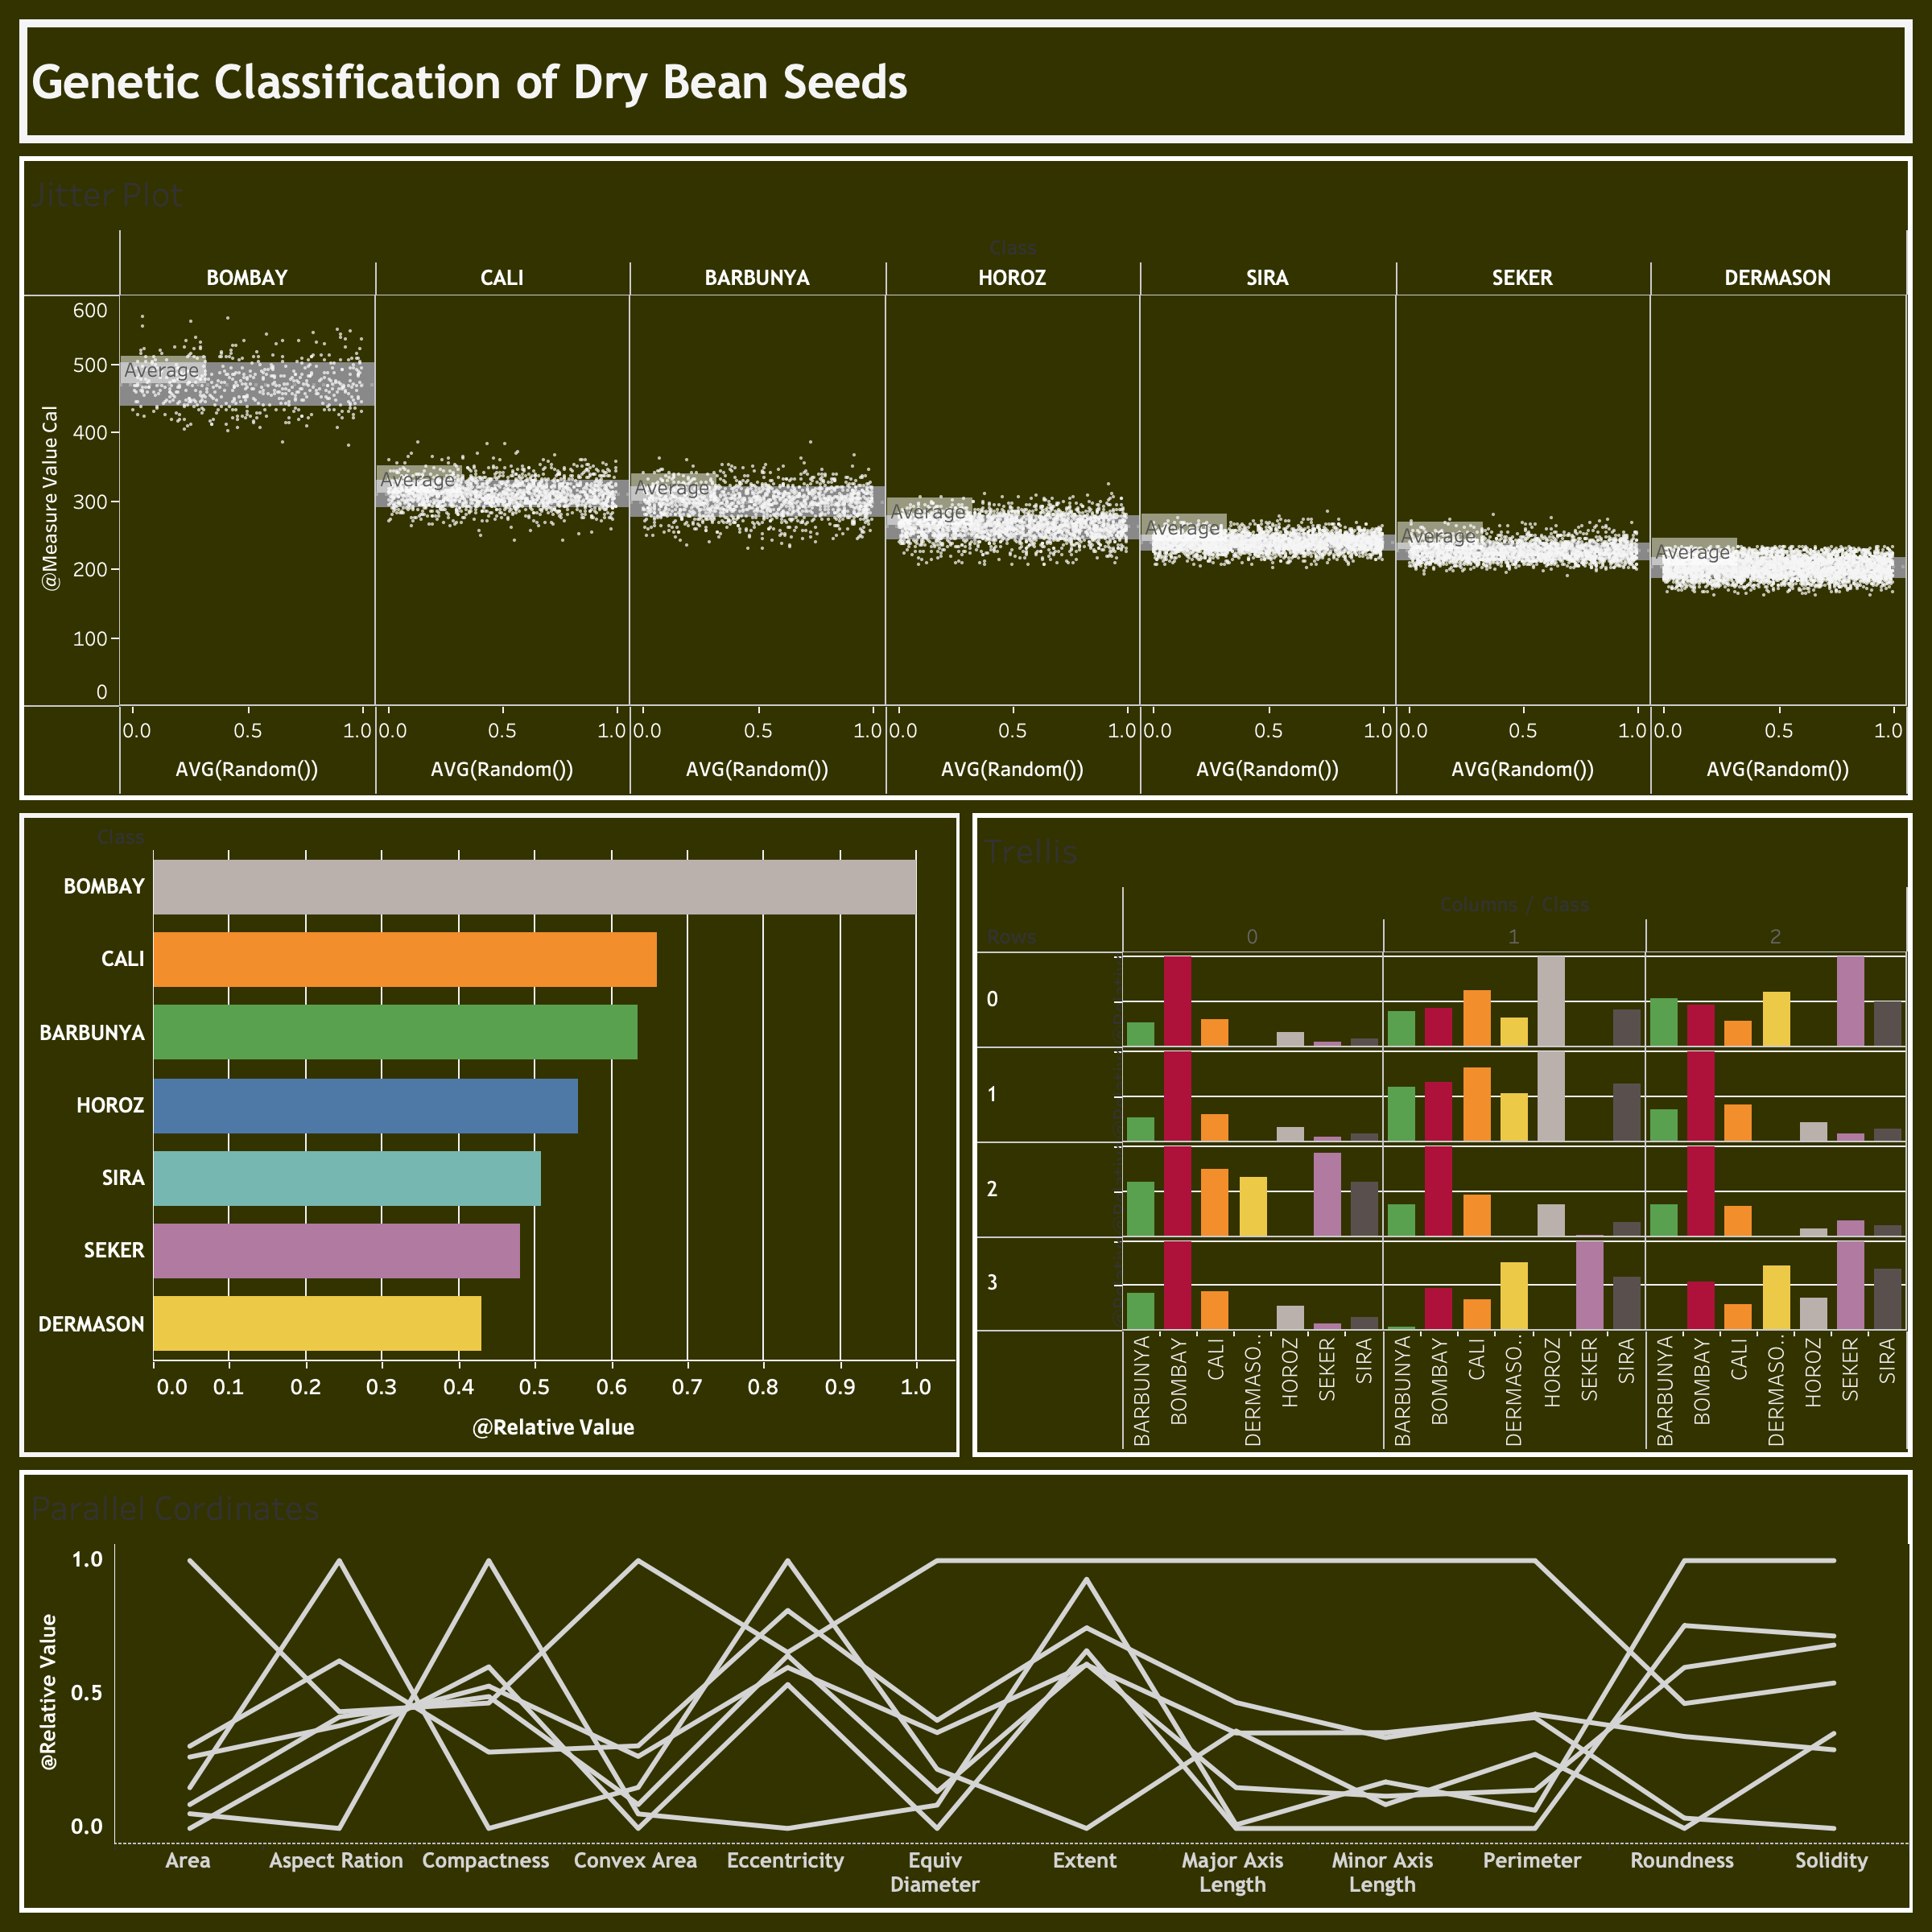

The page's visual inventory and layout, read from the dashboard file:
{"tool":"tableau","page":{"name":"Dashboard 3","canvas":[1200,1200],"ordinal":1},"visuals":[{"type":"text","box":[8,8,1184,85]},{"type":"worksheet","title":"Jitter Plot","mark":"Circle","rows":["Calculation_913456728604475394"],"cols":["Class","Calculation_913456728564543489"],"box":[8,93,1184,408]},{"type":"worksheet","title":"Sheet 2","mark":"Automatic","rows":["Class"],"cols":["Calculation_913456728612552707"],"box":[8,501,592,408]},{"type":"worksheet","title":"Trellis","mark":"Automatic","rows":["Calculation_913456728612552707"],"cols":["Class"],"box":[600,501,592,408]},{"type":"worksheet","title":"Parallel Cordinates","mark":"Line","cols":["Pivot Field Names"],"box":[8,909,1184,283]}]}

Visuals, with their boxes in screenshot pixels (x1, y1, x2, y2), scaled from the page's 1200x1200 canvas onto the 1932x1932 screenshot:
text: detection(13, 13, 1919, 150)
"Jitter Plot" worksheet (Circle marks): detection(13, 150, 1919, 807)
"Sheet 2" worksheet: detection(13, 807, 966, 1463)
"Trellis" worksheet: detection(966, 807, 1919, 1463)
"Parallel Cordinates" worksheet (Line marks): detection(13, 1463, 1919, 1919)
